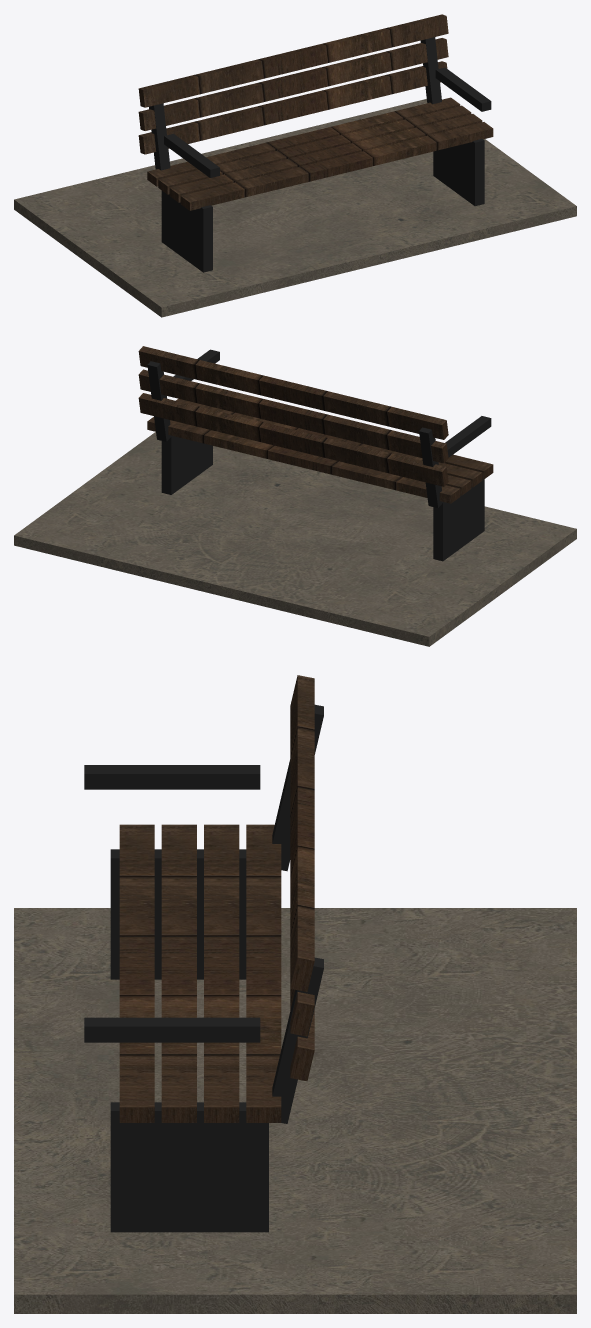
File: OT_Bench.glb
3 views of the same model, one above another, from view 1: azimuth 30°, elevation 25°; view 2: azimuth 150°, elevation 25°; view 3: azimuth 270°, elevation 25° (orthographic). The views are drawn at different scales.
Parts seen in each view (by area): view 1: OT_Bench_Sidewalk, OT_Bench_Wood, OT_Bench_Iron__1c1c1c; view 2: OT_Bench_Sidewalk, OT_Bench_Wood, OT_Bench_Iron__1c1c1c; view 3: OT_Bench_Sidewalk, OT_Bench_Wood, OT_Bench_Iron__1c1c1c.
Boxes of the visible parts, x1,y1,x2,y2 form: OT_Bench_Sidewalk: (14,99,576,317); OT_Bench_Wood: (138,14,493,210); OT_Bench_Iron__1c1c1c: (149,37,491,272); OT_Bench_Sidewalk: (14,432,576,646); OT_Bench_Wood: (138,346,493,503); OT_Bench_Iron__1c1c1c: (147,349,491,561); OT_Bench_Sidewalk: (14,908,576,1313); OT_Bench_Wood: (119,675,314,1122); OT_Bench_Iron__1c1c1c: (84,704,323,1232).
Size of the model in its own units: 2.6 by 0.9541 by 1.6.
3 materials, 2 textured.
